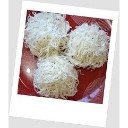idiyappam: (29, 13, 68, 56), (38, 58, 76, 97), (73, 24, 108, 66)
